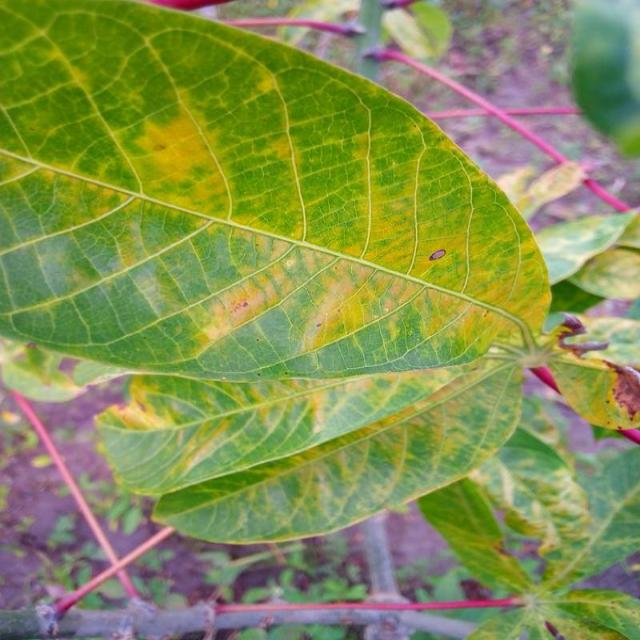cassava leaf: (1, 0, 554, 386)
